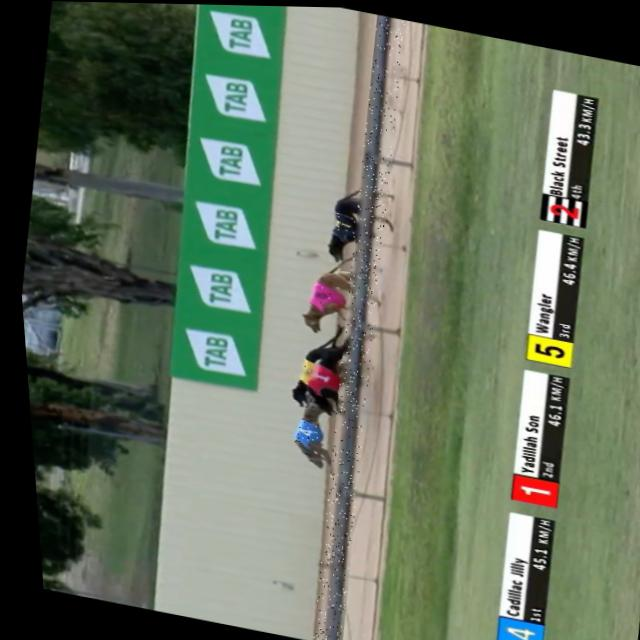dog_eight: (303, 281, 338, 307)
dog_five: (290, 359, 314, 379)
dog_four: (286, 414, 317, 445)
dog_one: (301, 363, 335, 388)
dog_seven: (326, 209, 358, 235)
rail: (319, 12, 393, 640)
